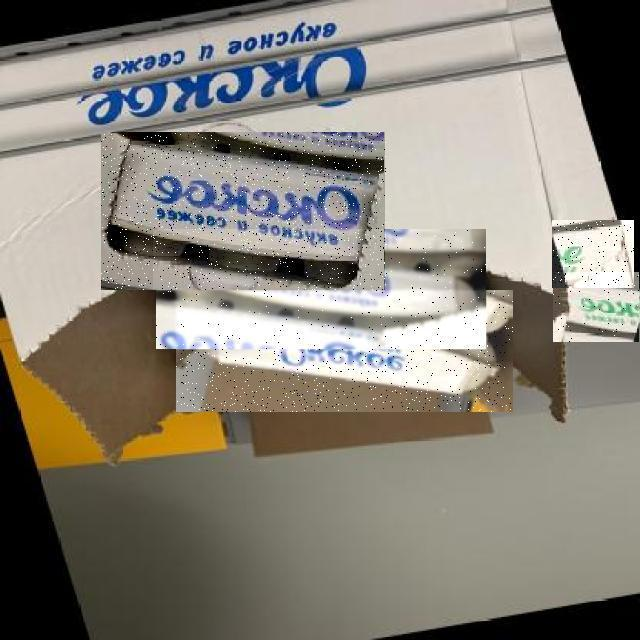Eggs: (102, 132, 388, 290), (176, 290, 513, 412), (156, 229, 486, 349), (553, 272, 639, 342), (552, 220, 634, 288)
